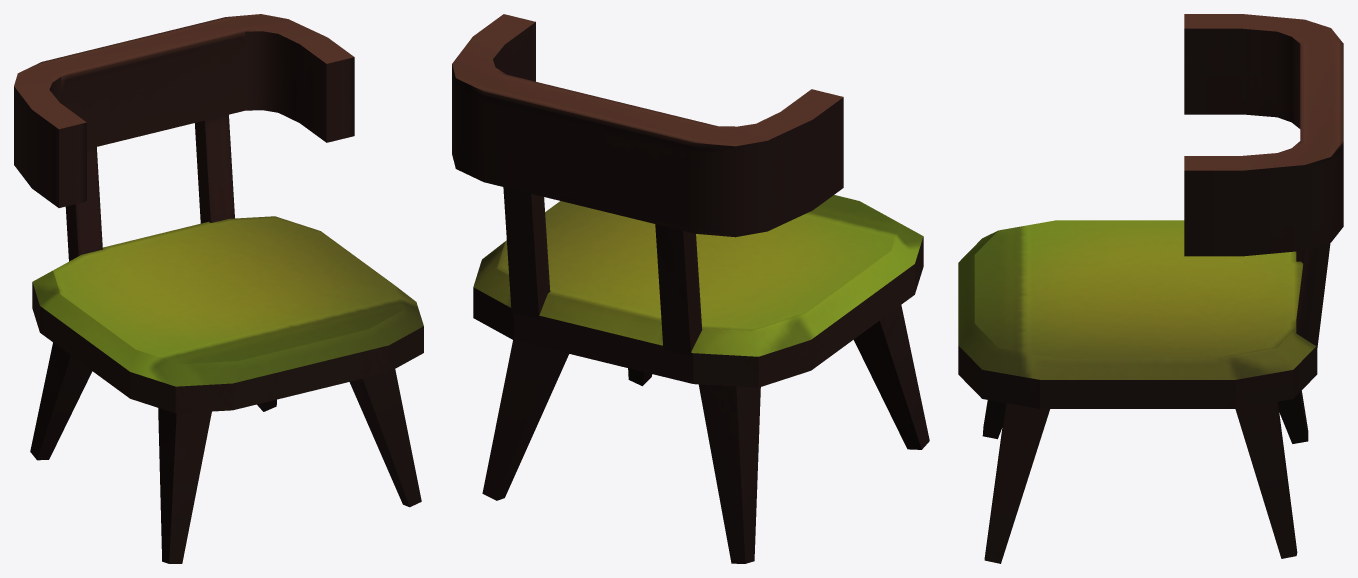
Rendered from Tx_props_chair_8.fbx.
3 renders of one model, left to right at view 1: azimuth 30°, elevation 25°; view 2: azimuth 150°, elevation 25°; view 3: azimuth 270°, elevation 25°, orthographic. The views are drawn at different scales.
Parts seen in each view (by area): view 1: polySurface36, polySurface43, polySurface38, polySurface39, polySurface37, polySurface41, polySurface42; view 2: polySurface36, polySurface43, polySurface37, polySurface40, polySurface38, polySurface42, polySurface41; view 3: polySurface36, polySurface43, polySurface39, polySurface40, polySurface41, polySurface37, polySurface38.
Boxes of the visible parts, x1,y1,x2,y2 form: polySurface36: (32, 216, 423, 413); polySurface43: (14, 14, 354, 207); polySurface38: (158, 408, 211, 563); polySurface39: (349, 369, 421, 507); polySurface37: (30, 342, 92, 460); polySurface41: (194, 114, 234, 223); polySurface42: (65, 147, 102, 261); polySurface36: (473, 195, 923, 387); polySurface43: (452, 14, 843, 237); polySurface37: (698, 384, 760, 563); polySurface40: (482, 340, 568, 500); polySurface38: (853, 305, 929, 449); polySurface42: (655, 224, 702, 356); polySurface41: (503, 187, 550, 319); polySurface36: (958, 220, 1317, 408); polySurface43: (1184, 14, 1343, 256); polySurface39: (984, 403, 1049, 563); polySurface40: (1235, 401, 1297, 558); polySurface41: (1296, 243, 1330, 355); polySurface37: (1278, 390, 1308, 443); polySurface38: (982, 400, 1005, 439).
Bounding box in the file's own units: 3.15 × 3.84 × 3.28.
